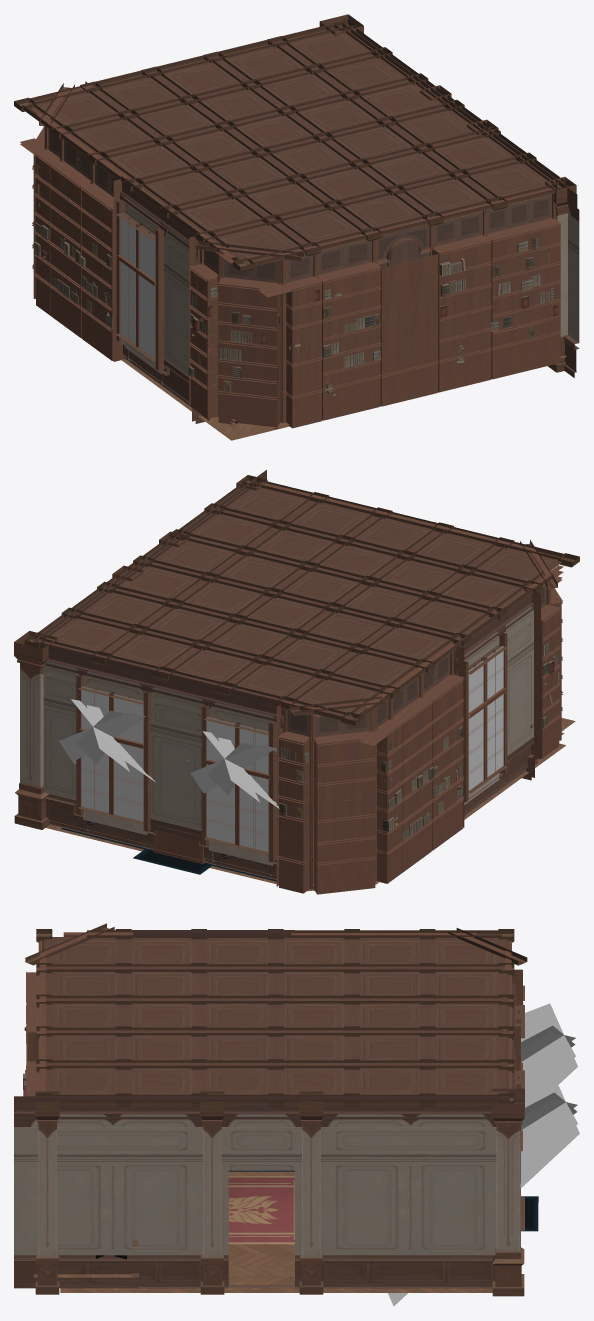
Rendered from IndoorScene_Md_Knightoffice.fbx.
3 renders of one model, top to bottom at view 1: azimuth 30°, elevation 25°; view 2: azimuth 150°, elevation 25°; view 3: azimuth 270°, elevation 25°, orthographic. The views are drawn at different scales.
Parts seen in each view (by area): view 1: Indoor_MdBuild_Knightoffice_Vo, Indoor_MdProps_Knightoffice_Ceiling01_Vo, Indoor_MdProps_Knightoffice_Wall01_Vo, Indoor_Window01 (2), Indoor_MdProps_Knightoffice_Bell01_Vo; view 2: Indoor_MdProps_Knightoffice_Ceiling01_Vo, Indoor_MdBuild_Knightoffice_Vo, Indoor_MdProps_Knightoffice_Wall01_Vo, Indoor_Window01 (14), Indoor_Window01 (13), Indoor_Window01 (2), xform02 (×2), xform01 (×2), Indoor_MdProps_Knightoffice_Shelf01_Vo, Indoor_MDBuild_Ao04 (2); view 3: Indoor_MdProps_Knightoffice_Wall01_Vo, Indoor_MdProps_Knightoffice_Ceiling01_Vo, xform02 (×2), Indoor_MdBuild_Knightoffice_Vo, Indoor_MdProps_Knightoffice_Carpet01_Vo, xform01 (×2), Indoor_MDBuild_Ao04 (2).
Boxes of the visible parts, x1=… form: Indoor_MdBuild_Knightoffice_Vo: x1=20, y1=81, x2=560, y2=429; Indoor_MdProps_Knightoffice_Ceiling01_Vo: x1=14, y1=19, x2=573, y2=272; Indoor_MdProps_Knightoffice_Wall01_Vo: x1=88, y1=14, x2=579, y2=440; Indoor_Window01 (2): x1=120, y1=212, x2=155, y2=358; Indoor_MdProps_Knightoffice_Bell01_Vo: x1=377, y1=224, x2=429, y2=267; Indoor_MdProps_Knightoffice_Ceiling01_Vo: x1=24, y1=476, x2=579, y2=726; Indoor_MdBuild_Knightoffice_Vo: x1=71, y1=482, x2=564, y2=894; Indoor_MdProps_Knightoffice_Wall01_Vo: x1=14, y1=470, x2=575, y2=891; Indoor_Window01 (14): x1=81, y1=686, x2=143, y2=821; Indoor_Window01 (13): x1=206, y1=717, x2=268, y2=851; Indoor_Window01 (2): x1=468, y1=646, x2=503, y2=790; xform02 (×2): x1=59, y1=705, x2=276, y2=802; xform01 (×2): x1=71, y1=699, x2=279, y2=808; Indoor_MdProps_Knightoffice_Shelf01_Vo: x1=153, y1=829, x2=205, y2=864; Indoor_MDBuild_Ao04 (2): x1=133, y1=848, x2=213, y2=874; Indoor_MdProps_Knightoffice_Wall01_Vo: x1=14, y1=930, x2=524, y2=1296; Indoor_MdProps_Knightoffice_Ceiling01_Vo: x1=25, y1=923, x2=527, y2=1106; xform02 (×2): x1=388, y1=1003, x2=579, y2=1306; Indoor_MdBuild_Knightoffice_Vo: x1=26, y1=932, x2=524, y2=1277; Indoor_MdProps_Knightoffice_Carpet01_Vo: x1=228, y1=1176, x2=294, y2=1244; xform01 (×2): x1=521, y1=1014, x2=577, y2=1129; Indoor_MDBuild_Ao04 (2): x1=521, y1=1196, x2=538, y2=1231.
Size of what is drawn, in the model's own units: 12.93 by 7.32 by 17.12.
